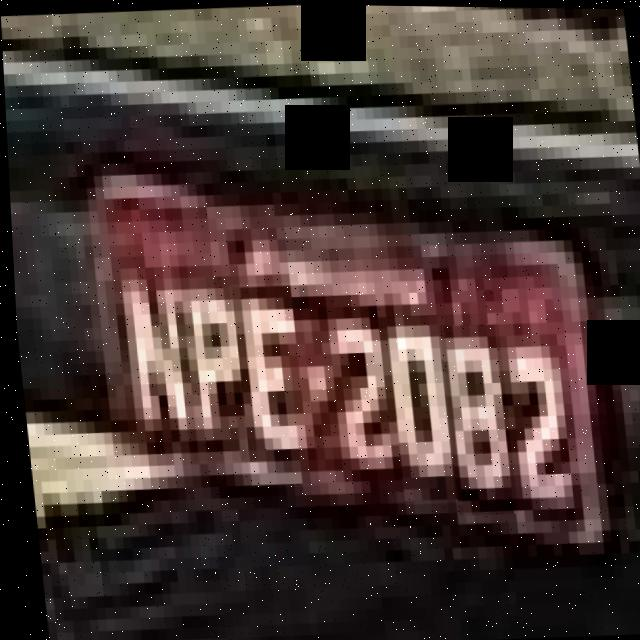0: (382, 314, 459, 506)
8: (436, 321, 514, 515)
E: (226, 280, 314, 488)
N: (101, 264, 195, 449)
P: (171, 265, 253, 462)
